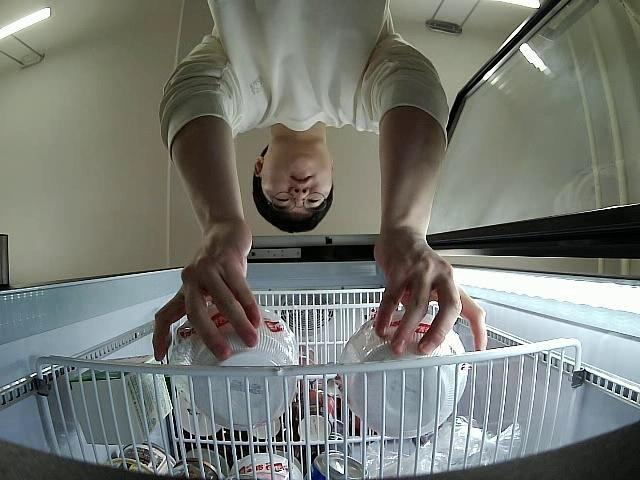09_yukGaeJang: (172, 308, 302, 432), (338, 320, 468, 436)
